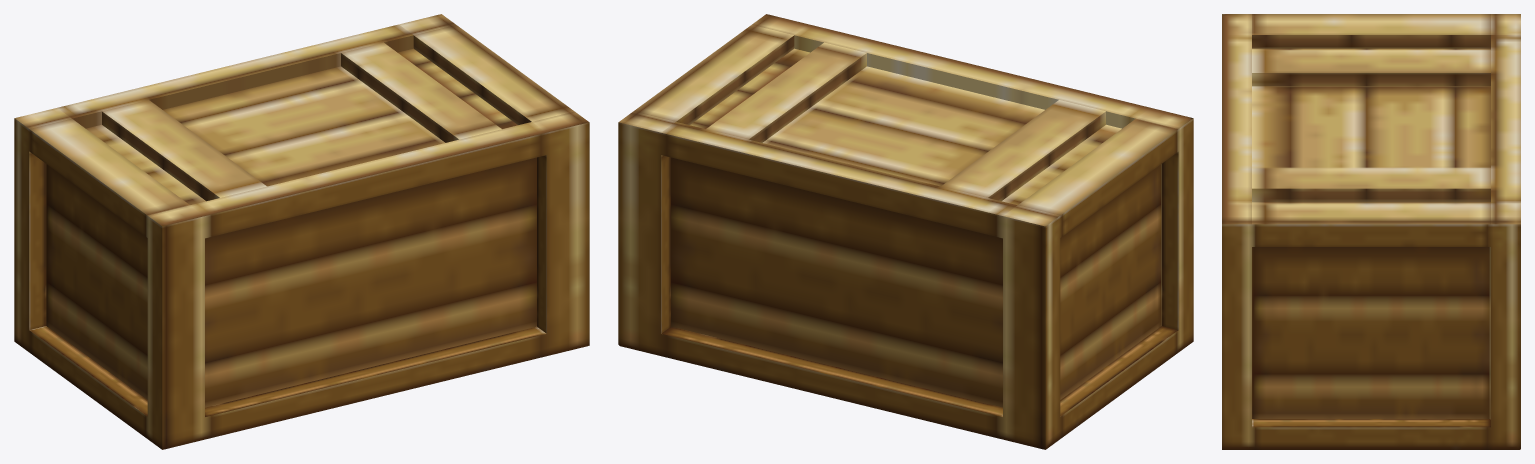
The model's file is Inside_Poly_Crate_01.obj.
3 views of the same model, side by side, from view 1: azimuth 30°, elevation 25°; view 2: azimuth 150°, elevation 25°; view 3: azimuth 270°, elevation 25° (orthographic).
Parts seen in each view (by area): view 1: Cube.001; view 2: Cube.001; view 3: Cube.001.
Part boxes in pixels (box(x1,y1,x2,y2)): Cube.001: box(14, 14, 589, 449); Cube.001: box(618, 14, 1193, 449); Cube.001: box(1222, 14, 1520, 449).
Bounding box in the file's own units: 1 × 0.5 × 0.6.
1 material, 1 textured.
